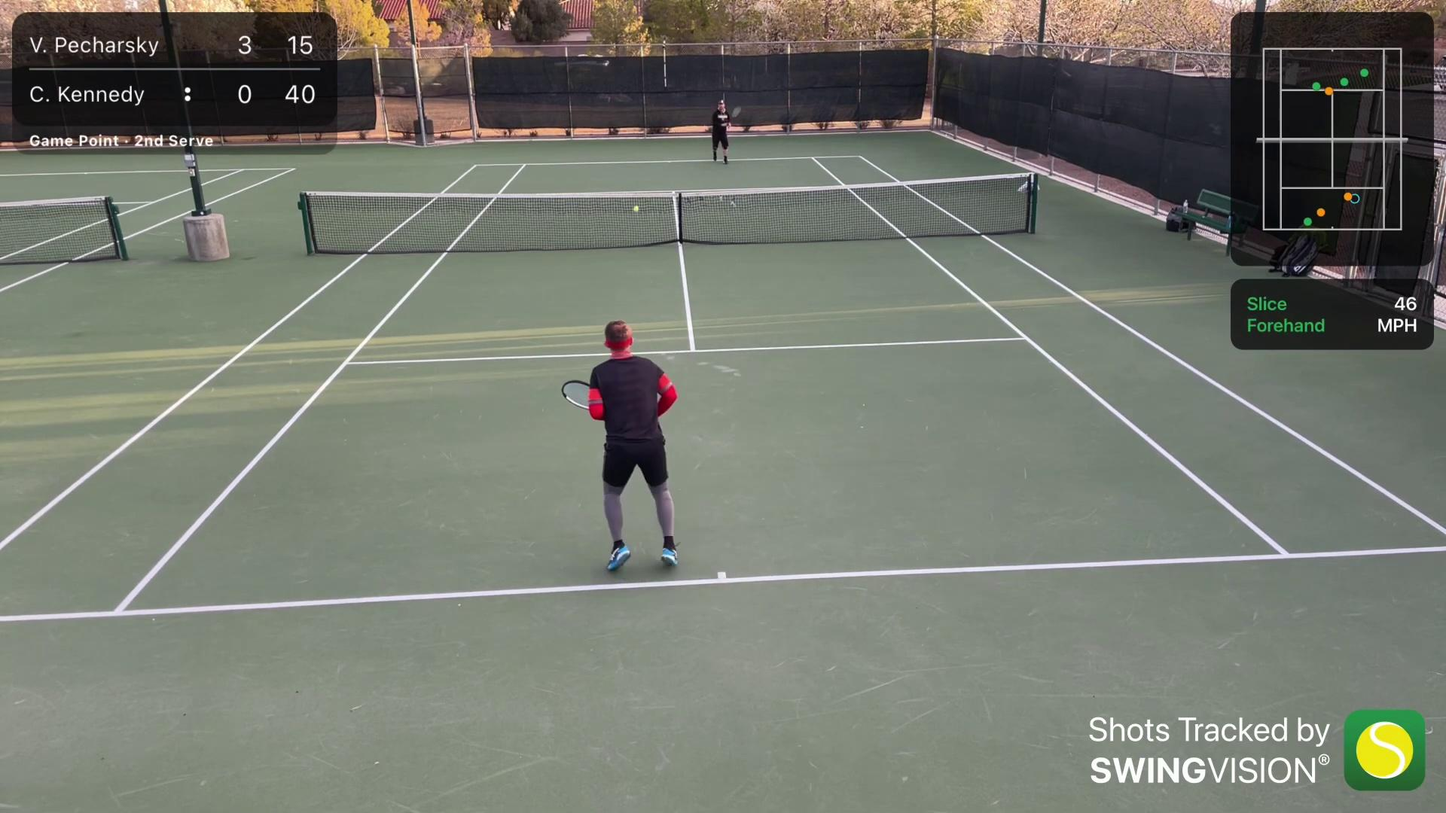ball: (633, 206, 639, 213)
